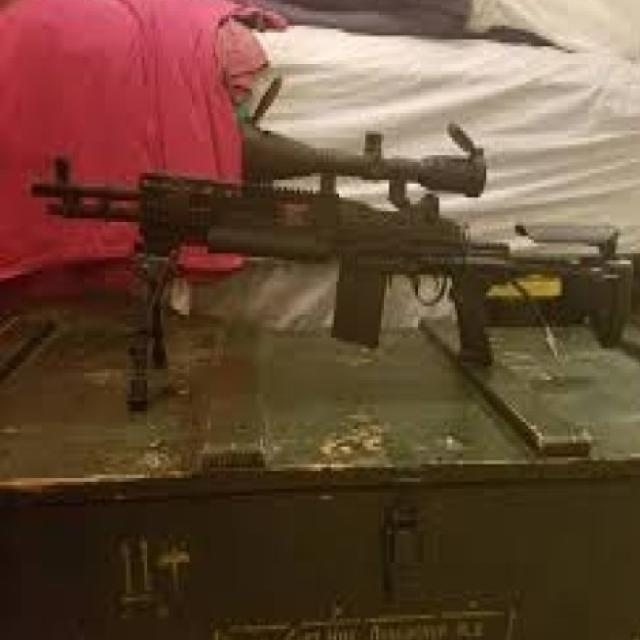Gun: (22, 102, 640, 426)
